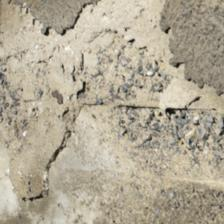Crack: (0, 124, 153, 179), (29, 91, 95, 182), (80, 8, 173, 44), (116, 102, 165, 122)
